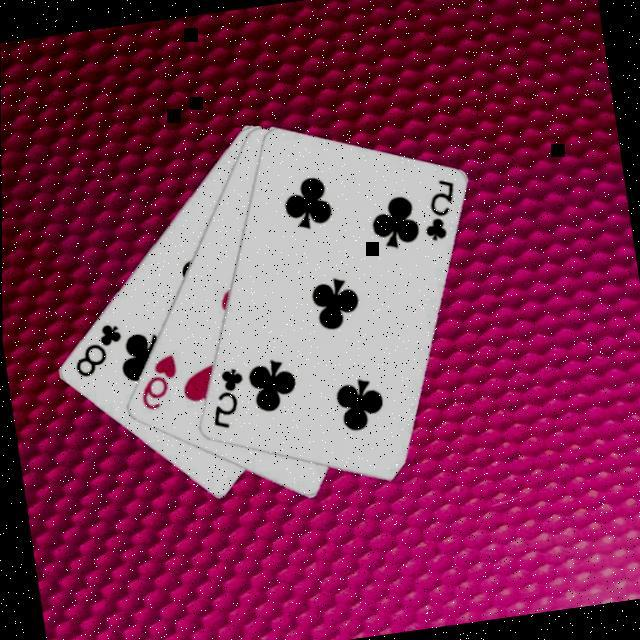5C: (412, 173, 462, 244), (200, 362, 250, 431)
6H: (130, 348, 182, 413)
8C: (64, 318, 128, 380)
